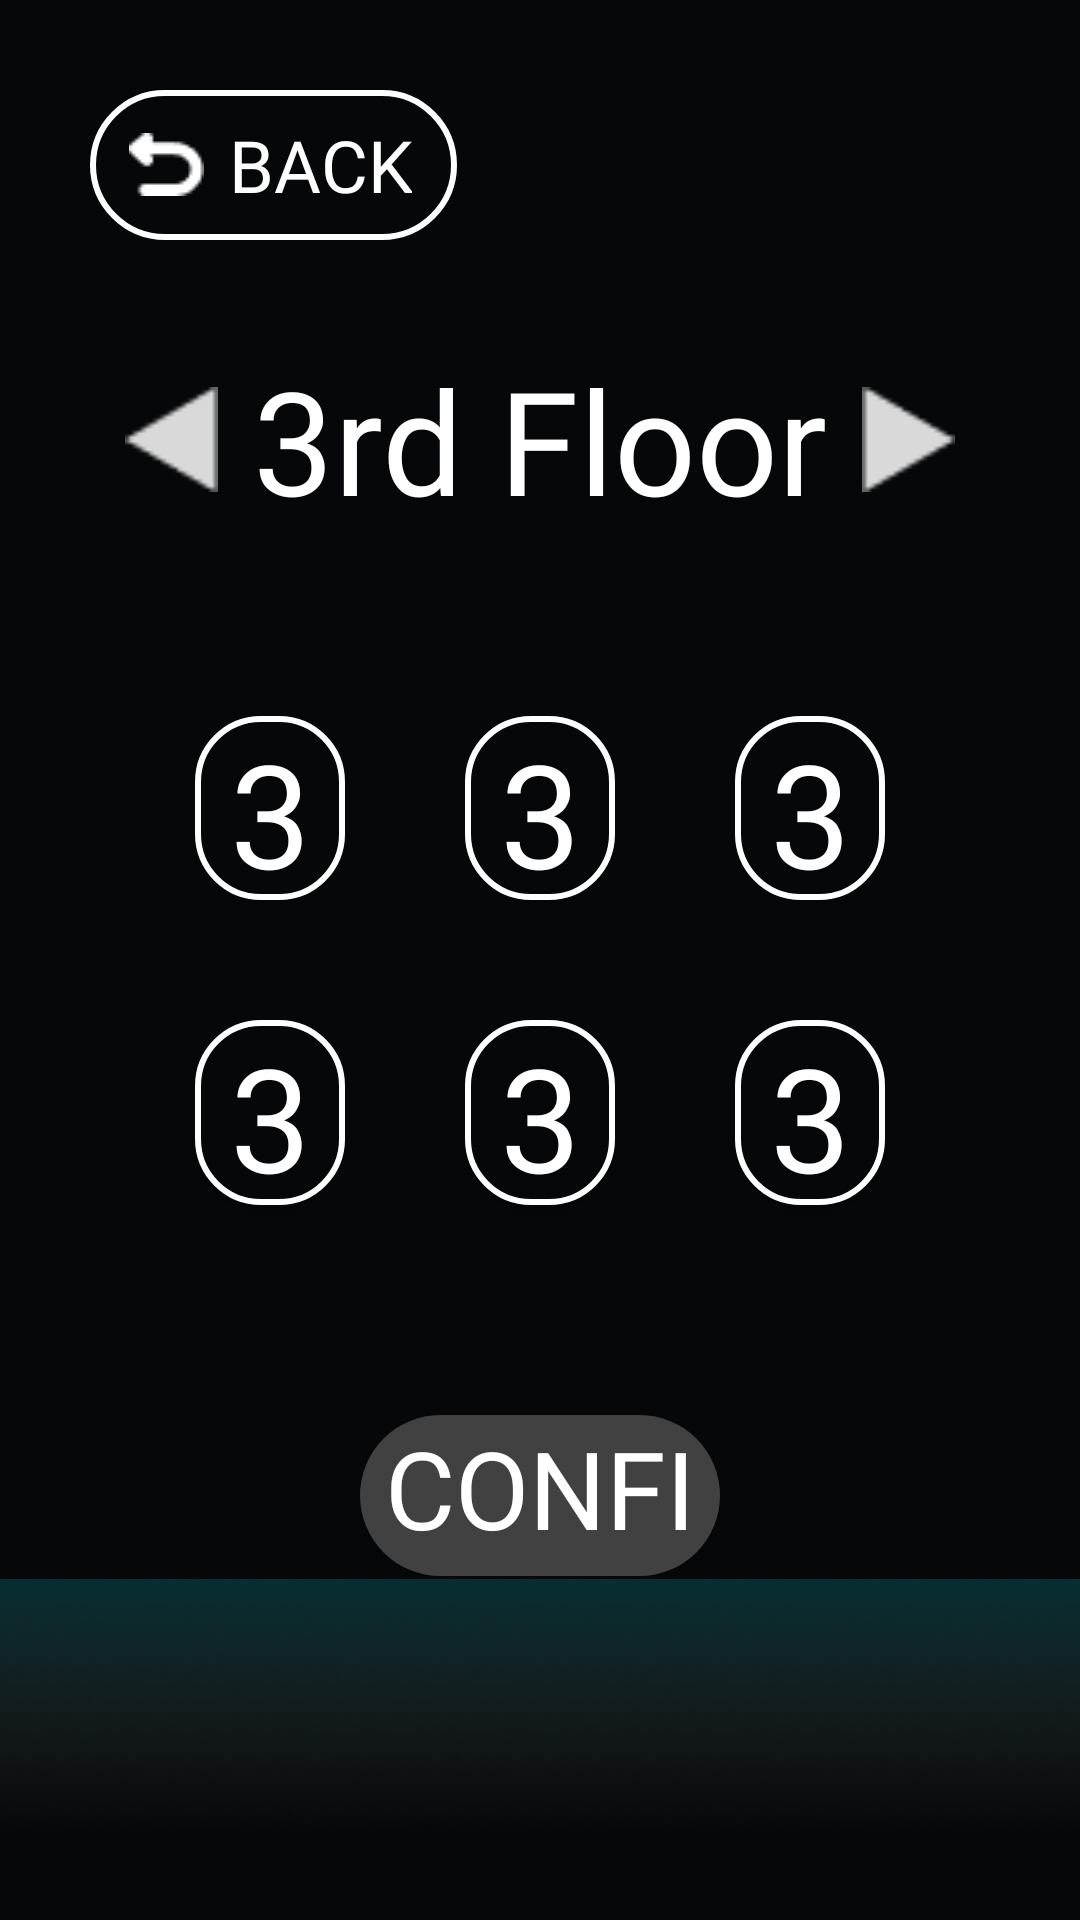

Locate icon controls on the screen. Image size 1080px x 1920px, boxes as (x1, y1, x2, y2).
next: (862, 387, 955, 492)
prev: (125, 387, 218, 492)
